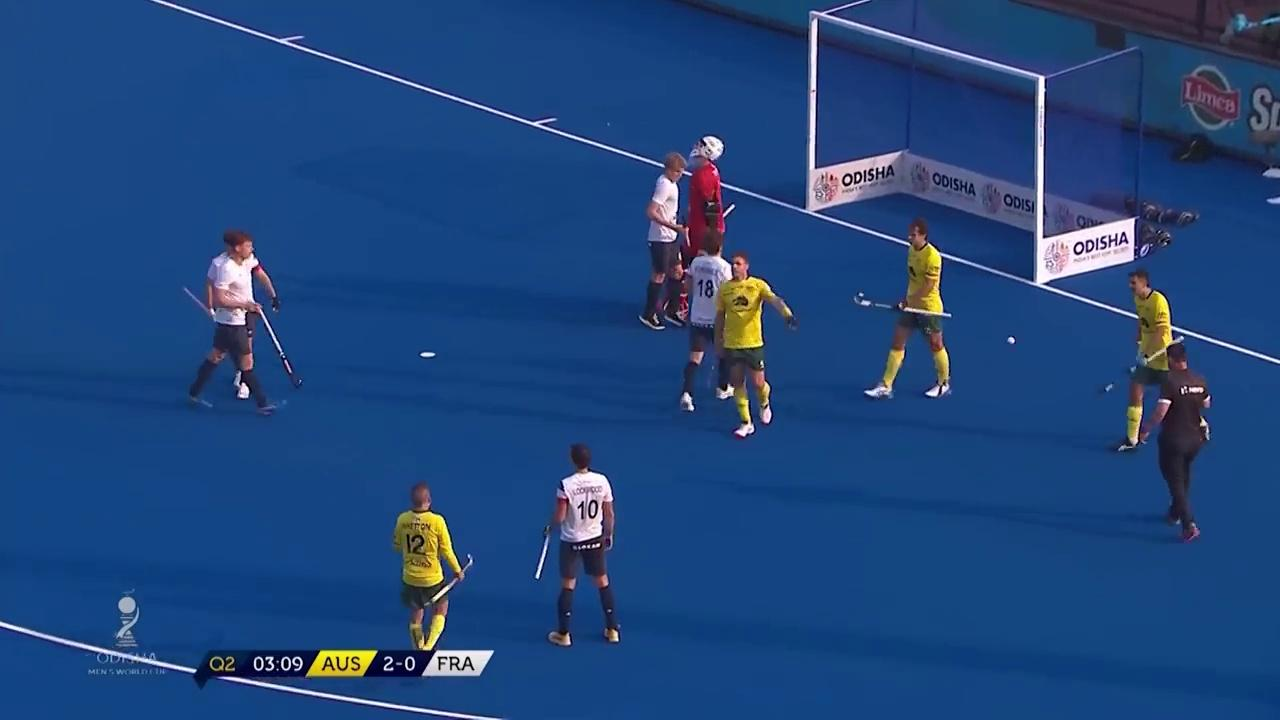ball: (999, 329, 1018, 352)
